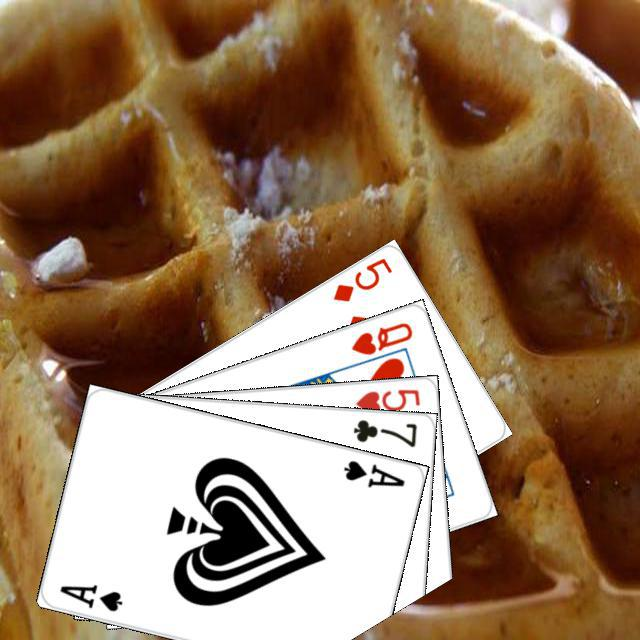5d: (328, 253, 394, 304)
5h: (350, 384, 422, 415)
7c: (348, 415, 419, 449)
As: (55, 579, 125, 614), (338, 455, 407, 490)
Qh: (346, 317, 415, 357)
